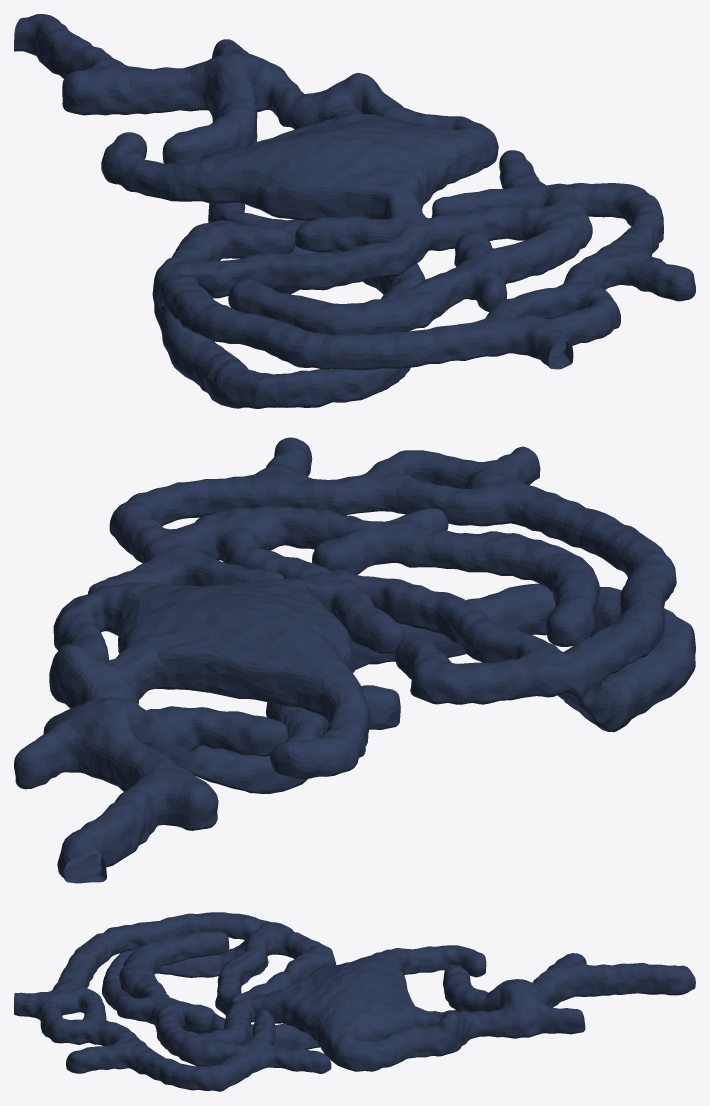
File: maze.fbx
3 renders of one model, top to bottom at view 1: azimuth 30°, elevation 25°; view 2: azimuth 150°, elevation 25°; view 3: azimuth 270°, elevation 25°, orthographic. The views are drawn at different scales.
Visible parts, largest first — view 1: Cube; view 2: Cube; view 3: Cube.
Boxes of the visible parts, x1=… form: Cube: x1=14, y1=14, x2=695, y2=408; Cube: x1=14, y1=437, x2=695, y2=883; Cube: x1=14, y1=912, x2=695, y2=1091.
Bounding box in the file's own units: 4265 × 1017 × 7413.
